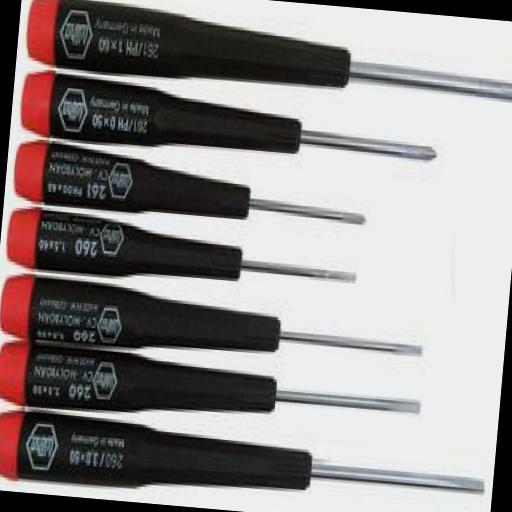screwdriver: (24, 0, 512, 108), (0, 408, 488, 512), (0, 272, 425, 376), (18, 69, 440, 171), (0, 341, 422, 442), (12, 140, 370, 232), (4, 206, 360, 296)
